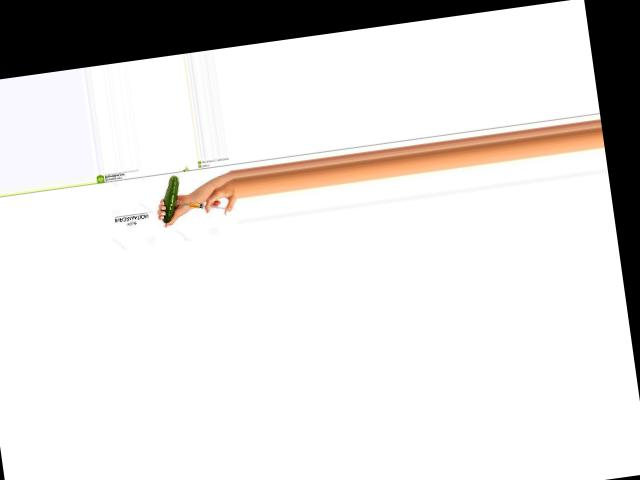cucumber: (157, 174, 184, 223)
